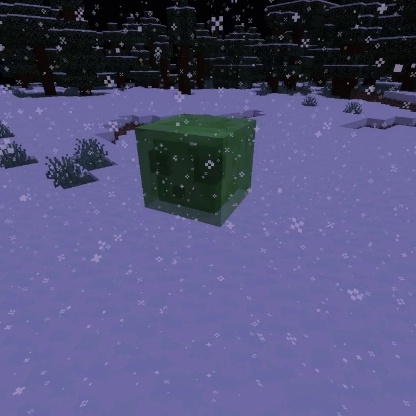slime: (132, 112, 258, 229)
